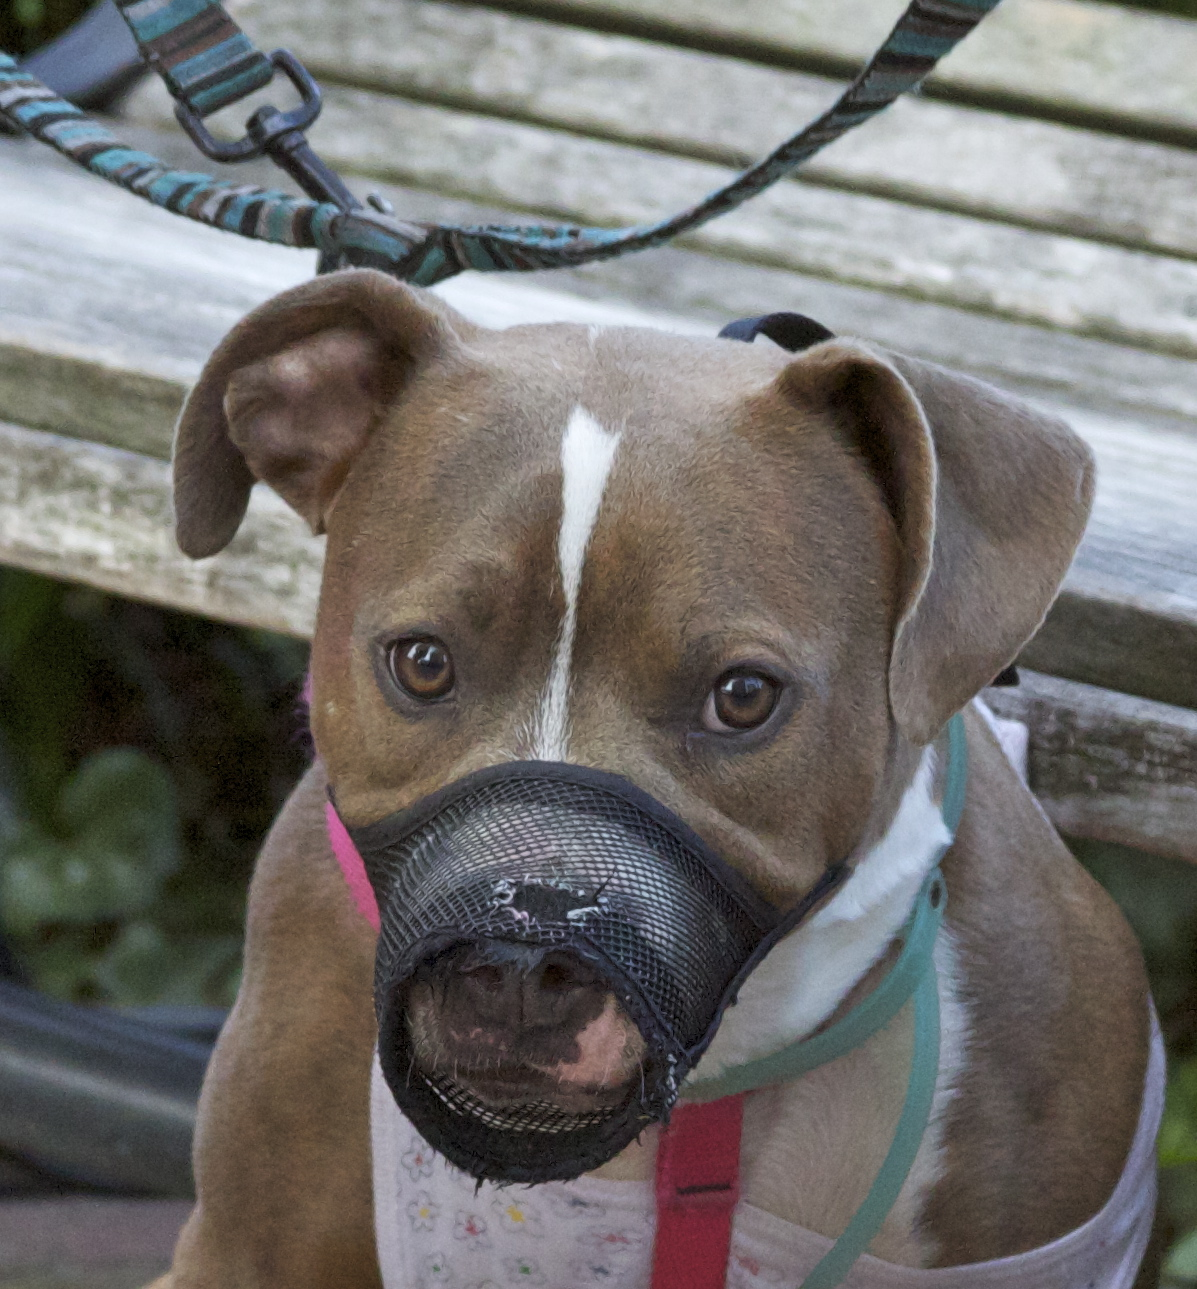am_pit_bull_terrier: (143, 263, 1170, 1289)
